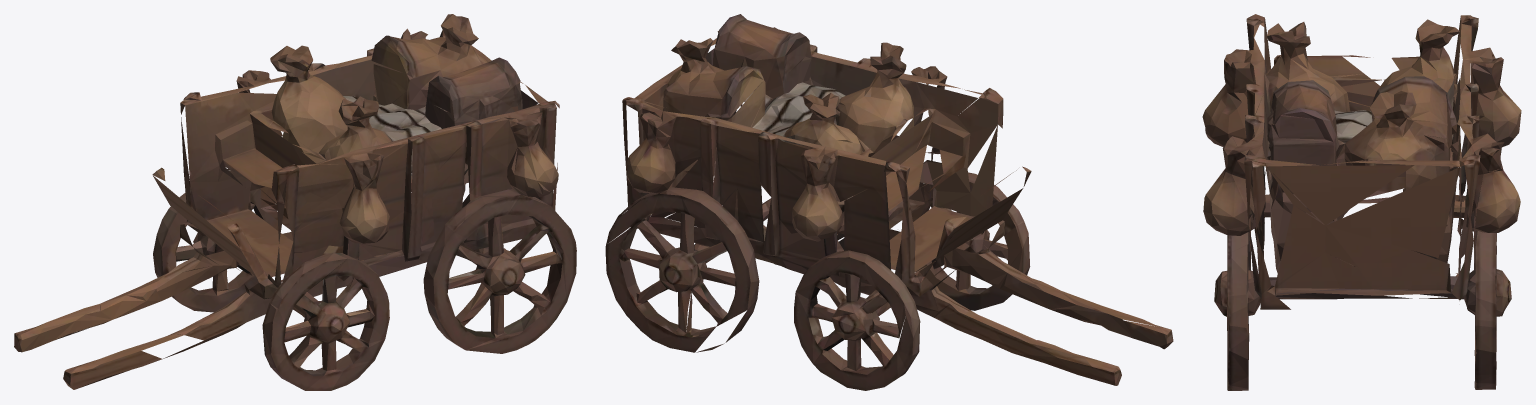
Rendered from bandit_cart.glb.
3 renders of one model, left to right at view 1: azimuth 30°, elevation 25°; view 2: azimuth 150°, elevation 25°; view 3: azimuth 270°, elevation 25°, orthographic. The views are drawn at different scales.
Visible parts, largest first — view 1: geometry_0; view 2: geometry_0; view 3: geometry_0.
Boxes of the visible parts, x1,y1,x2,y2 form: geometry_0: (14,14,576,390); geometry_0: (605,14,1173,390); geometry_0: (1202,14,1521,390).
Bounding box in the file's own units: 2 × 1.1 × 1.04.
Materials: 1 (1 with a texture image).
